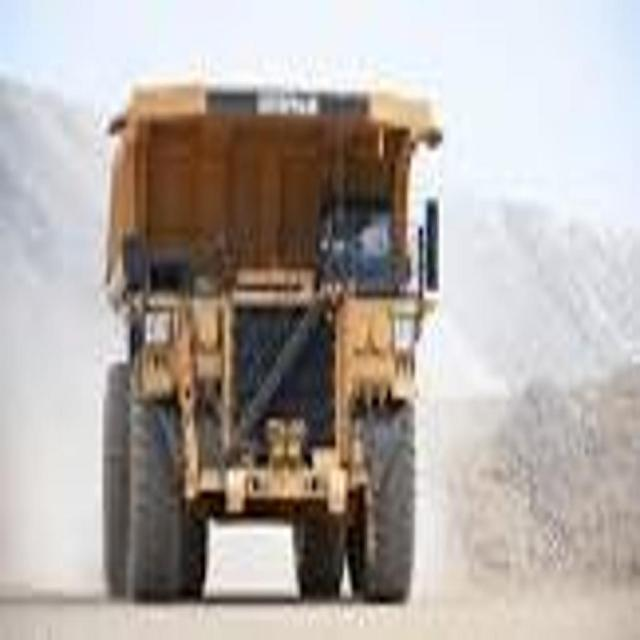dump_truck: (100, 64, 445, 618)
